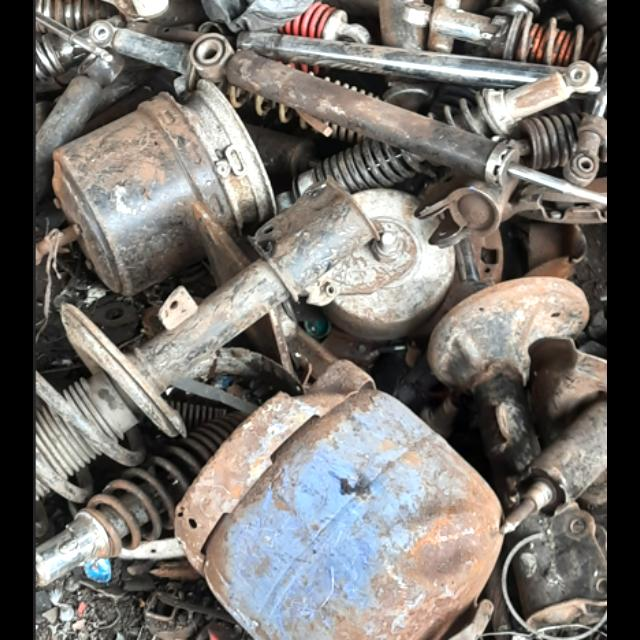Shock Absorber: (281, 55, 600, 213), (35, 417, 233, 589), (403, 2, 606, 75)
